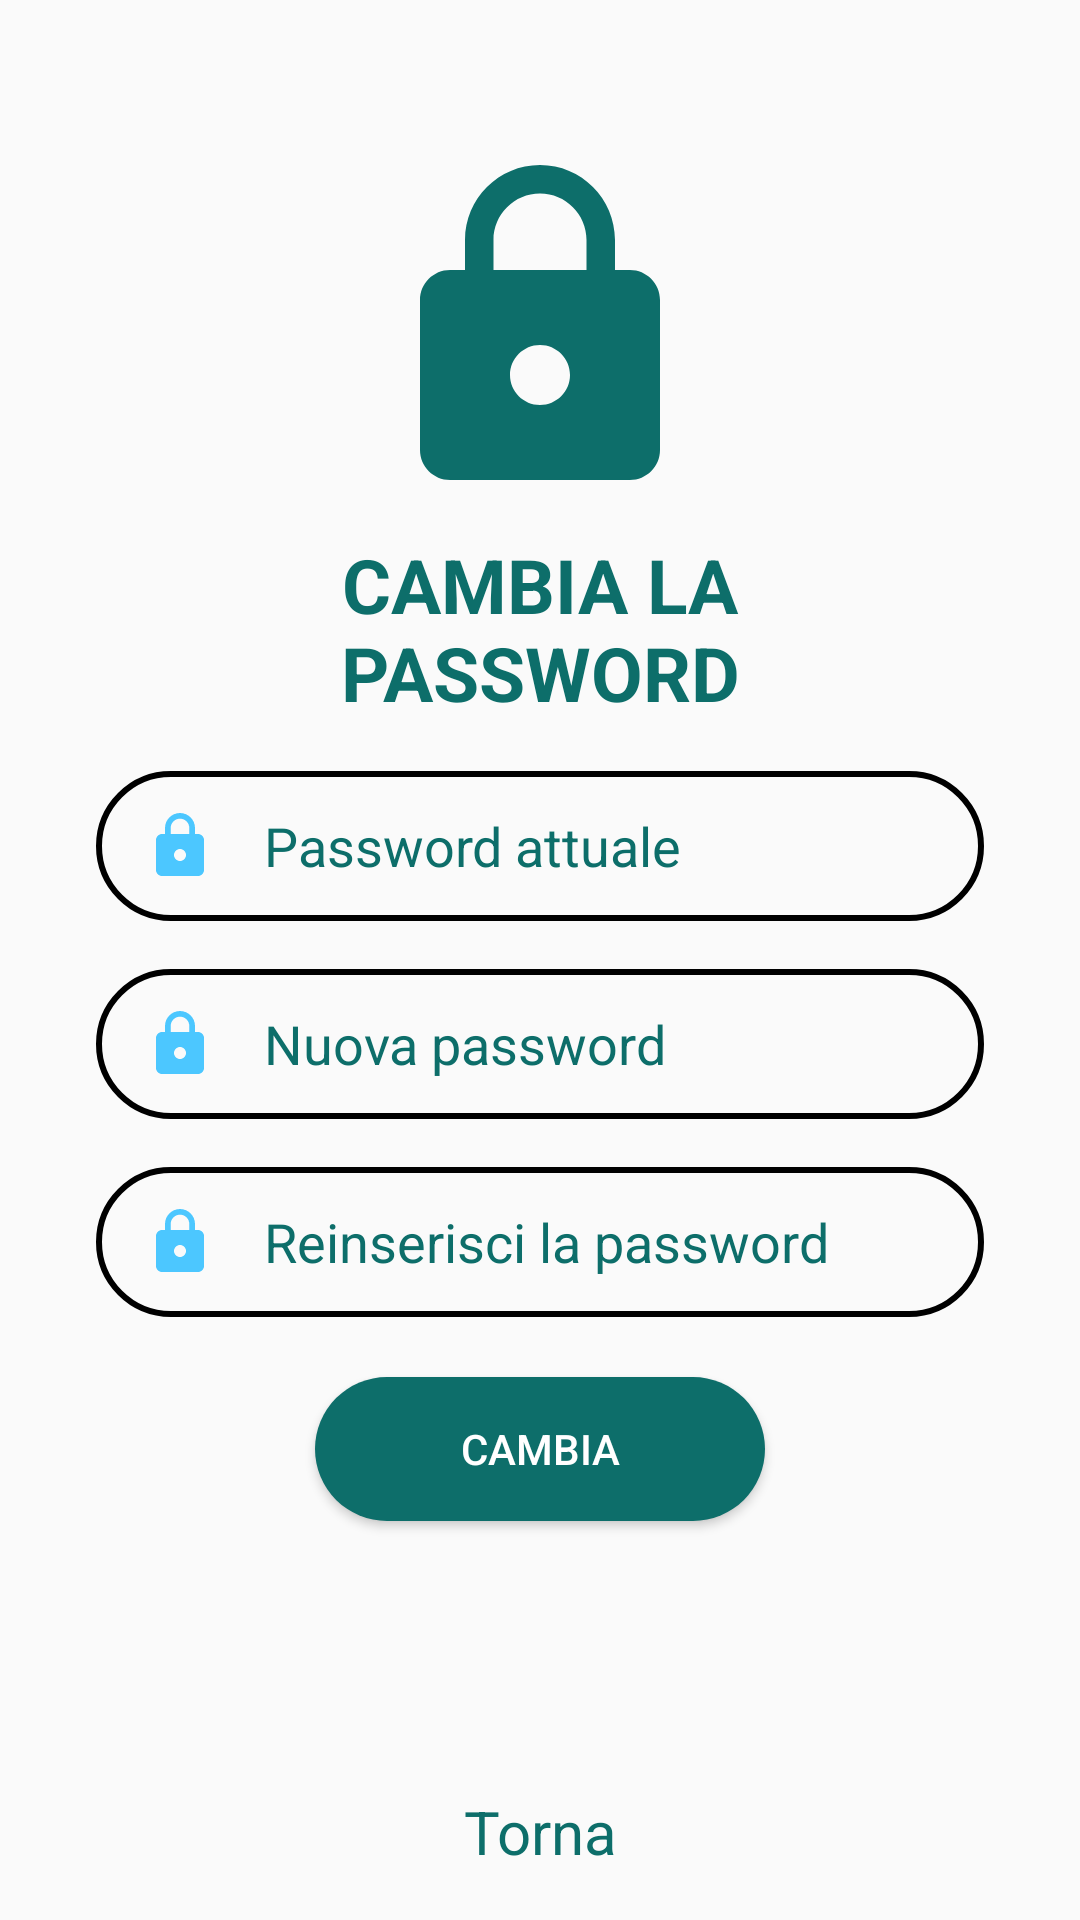

Icons on this 1080×1920 Android screen, each with its box as [left=x1, top=y1, right=x2, bottom=y2]:
lock: [left=420, top=165, right=660, bottom=480]
